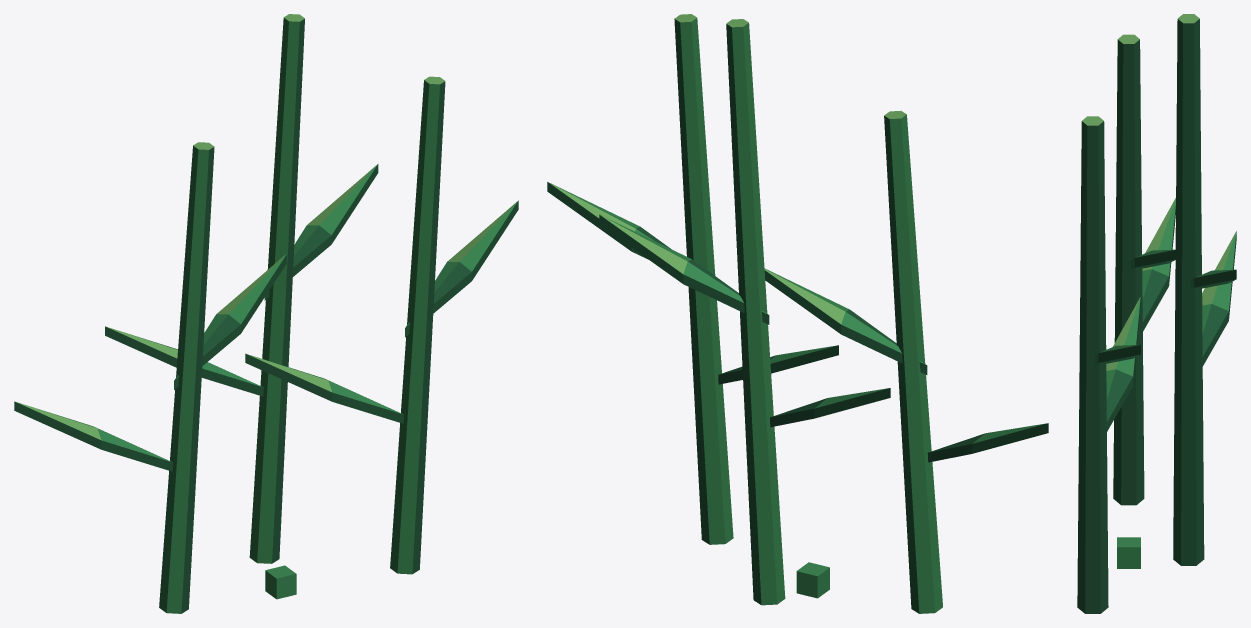
File: wheat_stage_02.fbx
The picture shows the model from 3 angles, left to right: view 1: azimuth 30°, elevation 25°; view 2: azimuth 150°, elevation 25°; view 3: azimuth 270°, elevation 25°; orthographic projection. The views are drawn at different scales.
Visible parts, largest first — view 1: wheat_stage_02__Foliage, wheat_stage_02__Origin; view 2: wheat_stage_02__Foliage, wheat_stage_02__Origin; view 3: wheat_stage_02__Foliage, wheat_stage_02__Origin.
Boxes of the visible parts, bbox=[...] form: wheat_stage_02__Foliage: bbox=[14, 14, 518, 613]; wheat_stage_02__Origin: bbox=[265, 565, 296, 599]; wheat_stage_02__Foliage: bbox=[547, 14, 1048, 613]; wheat_stage_02__Origin: bbox=[796, 562, 829, 598]; wheat_stage_02__Foliage: bbox=[1077, 14, 1236, 613]; wheat_stage_02__Origin: bbox=[1117, 537, 1140, 568].
Size of the model in its own units: 0.98 by 1.05 by 0.266.
1 material, 1 textured.
